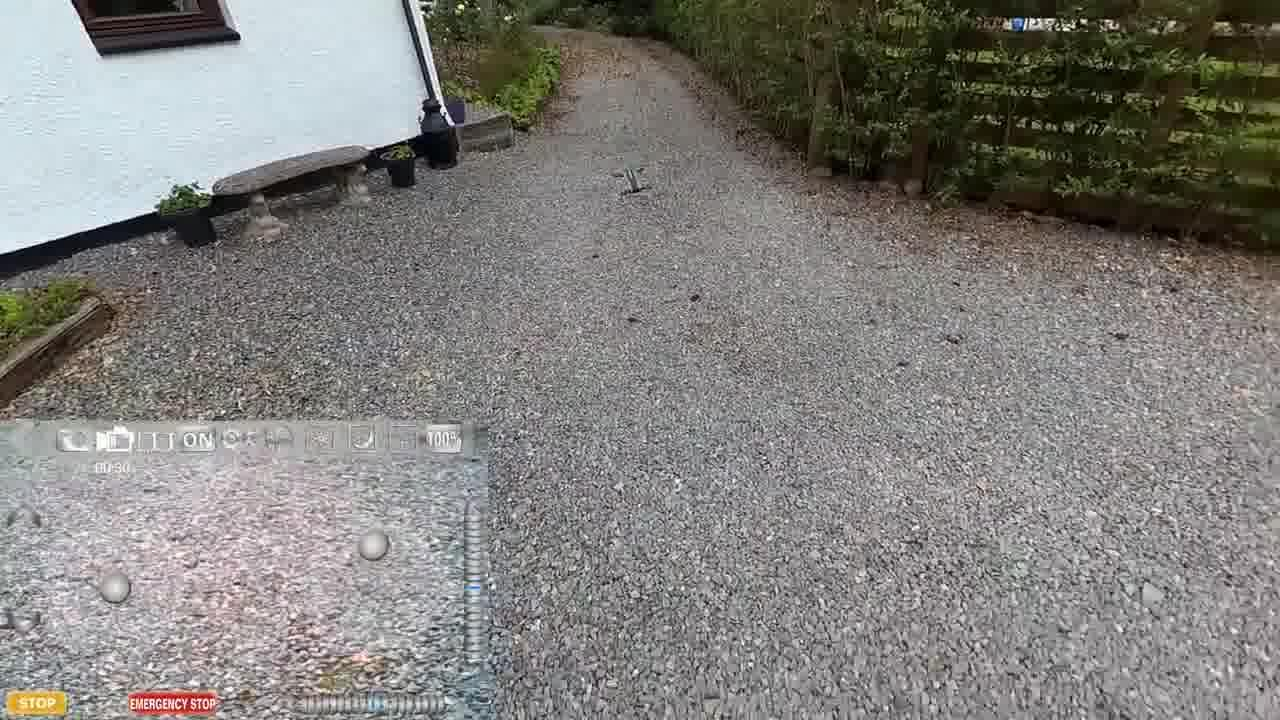drone: (602, 156, 672, 200)
